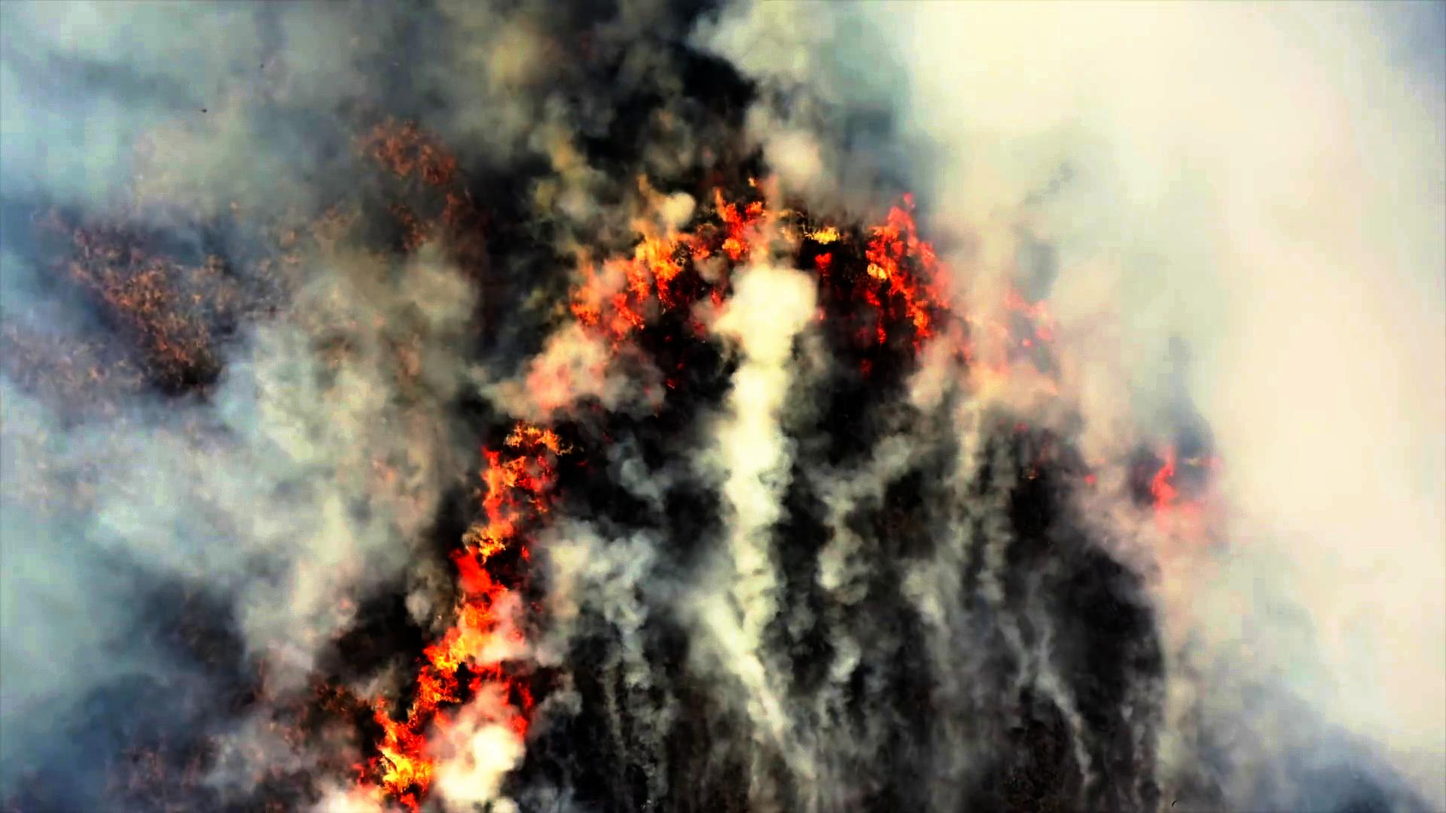fire: (376, 531, 531, 733), (584, 187, 737, 339), (848, 206, 915, 317)
smoke: (1011, 2, 1446, 330)
